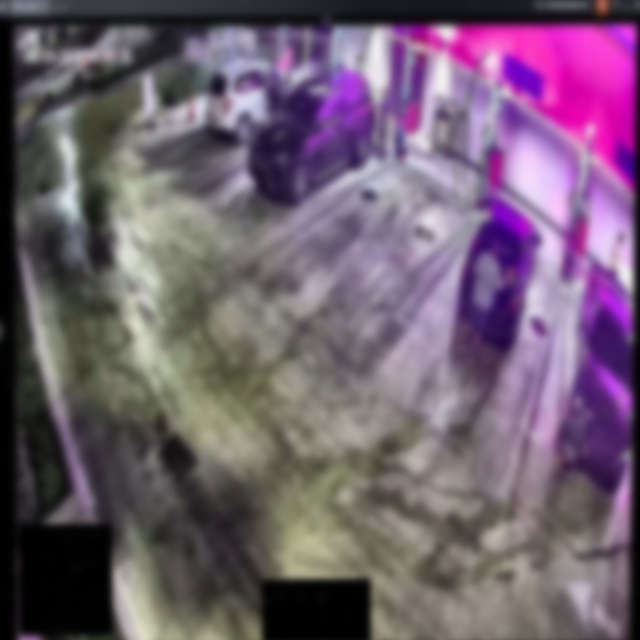Car: (246, 68, 376, 202), (457, 198, 541, 345)
